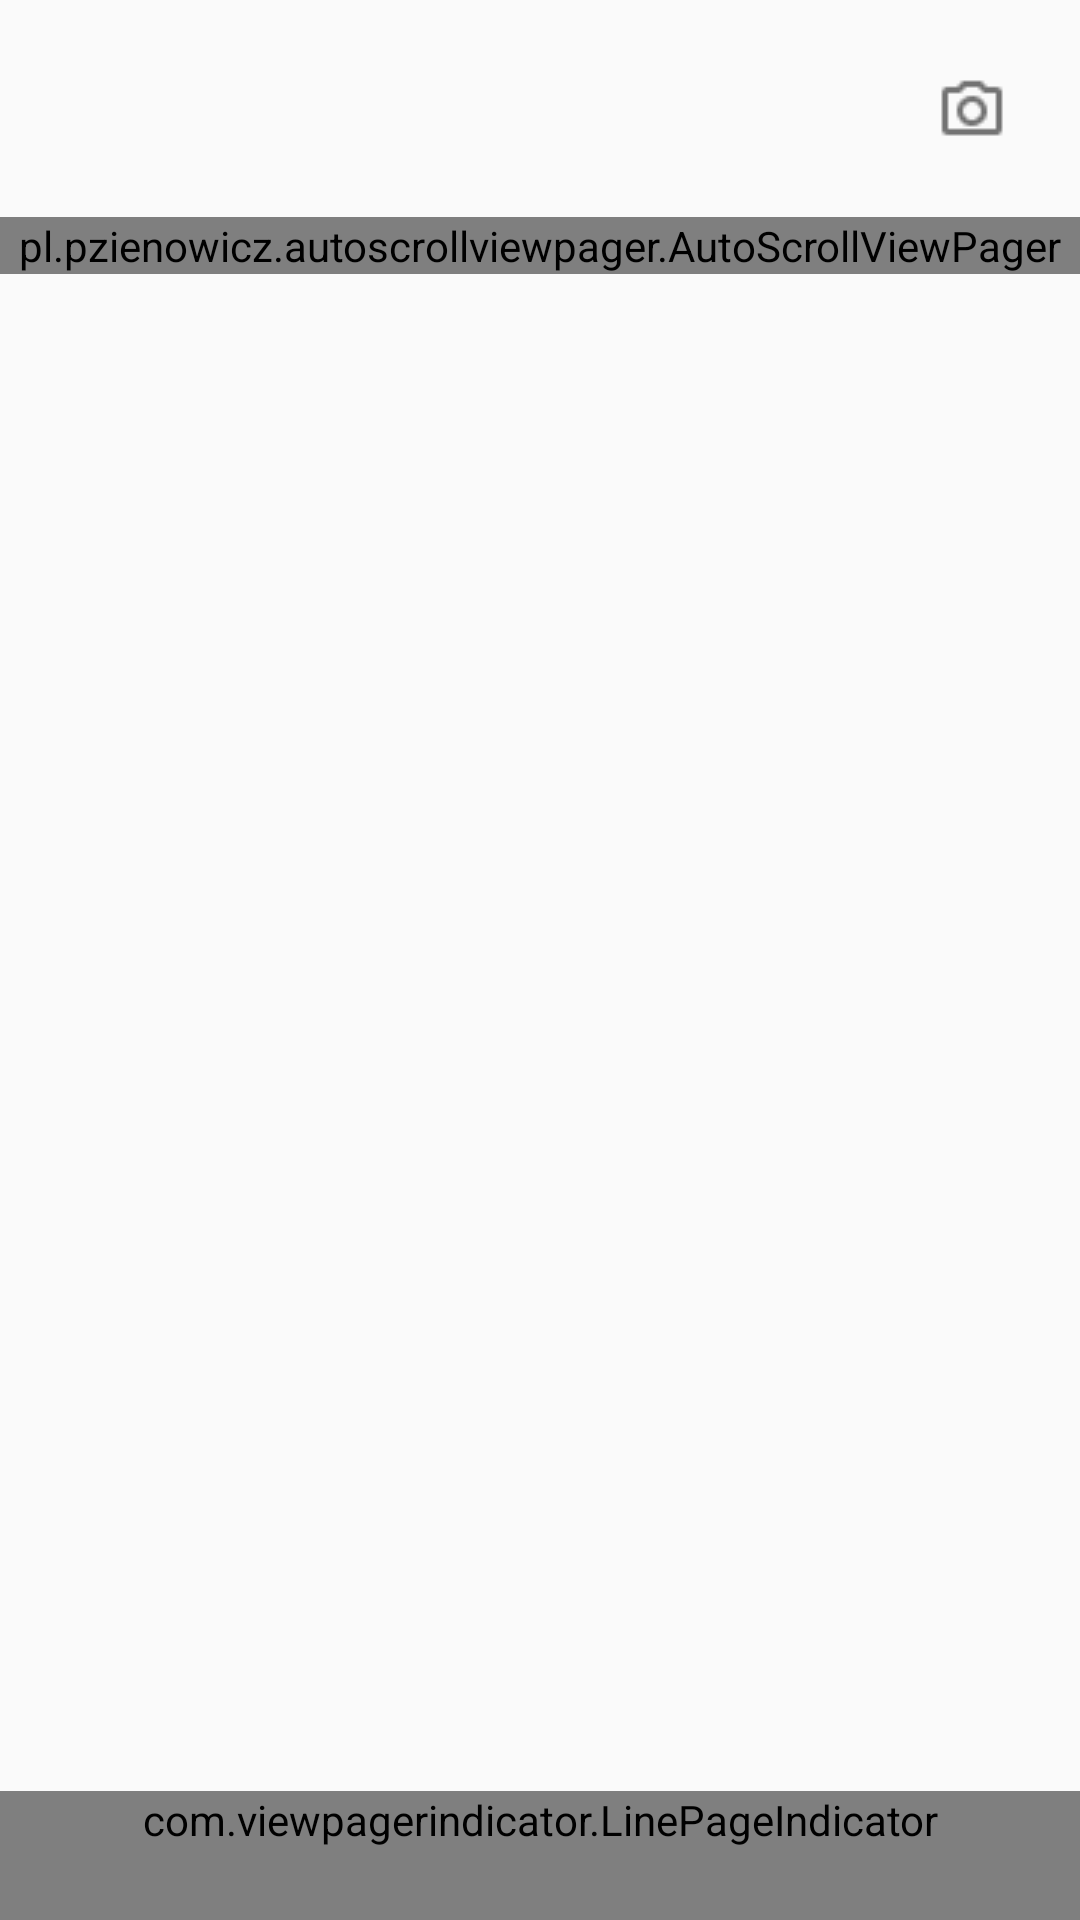

Icons on this 1080px x 1920px Android screen, each with the point to tap as point (x, y):
photo camera: point (972, 108)
